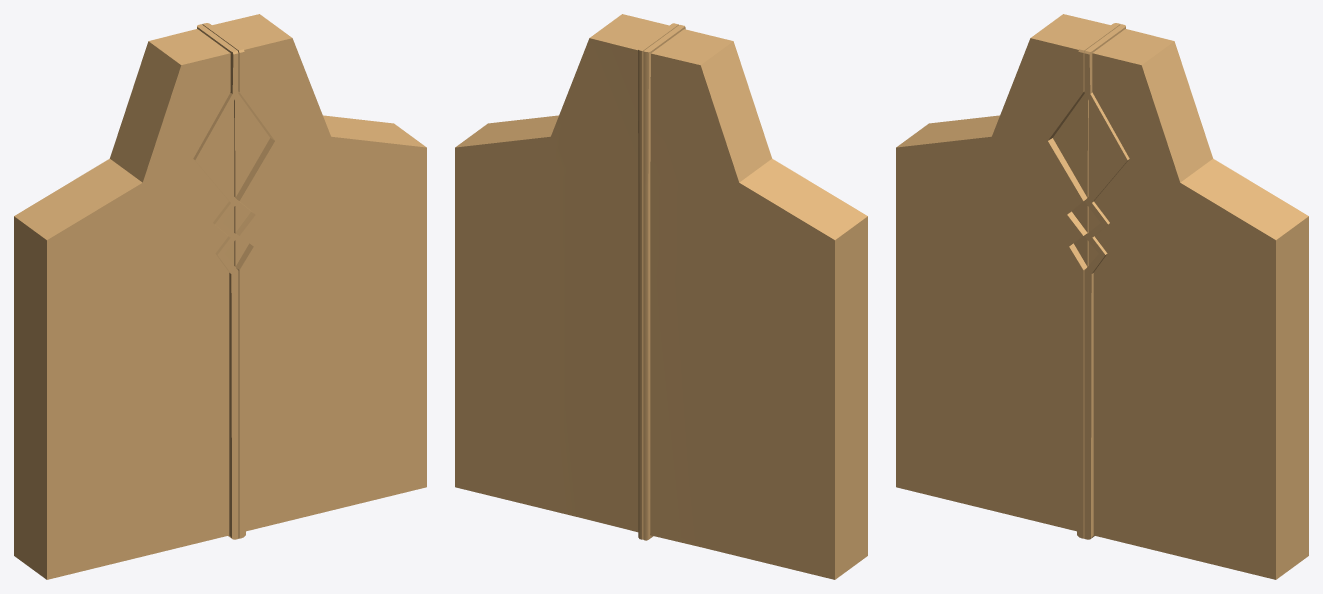
File: RuinsBigDoors.fbx
3 renders of one model, left to right at view 1: azimuth 30°, elevation 25°; view 2: azimuth 150°, elevation 25°; view 3: azimuth 330°, elevation 25°, orthographic.
Visible parts, largest first — view 1: Cube.006; view 2: Cube.006; view 3: Cube.006.
Part boxes in pixels (x1,y1,x2,y2): Cube.006: (14,14,426,579); Cube.006: (455,14,867,579); Cube.006: (896,14,1308,579).
Bounding box in the file's own units: 4622 × 5680 × 782.
